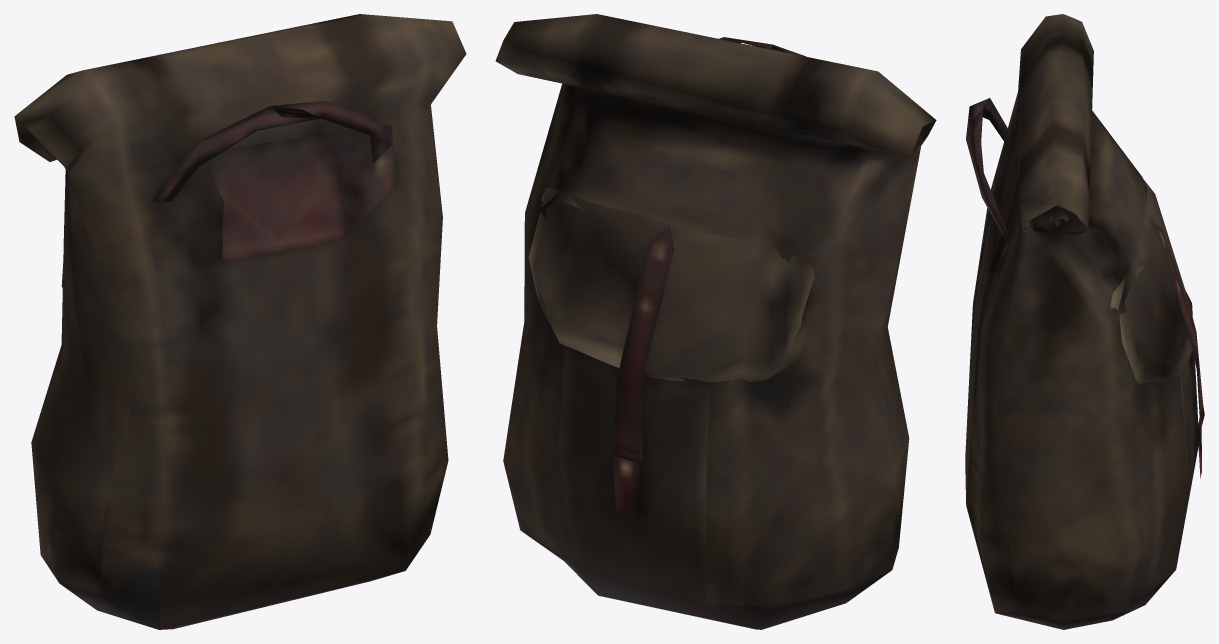
Rendered from backpack.fbx.
The picture shows the model from 3 angles, left to right: view 1: azimuth 30°, elevation 25°; view 2: azimuth 150°, elevation 25°; view 3: azimuth 270°, elevation 25°; orthographic projection. The views are drawn at different scales.
Visible parts, largest first — view 1: back_leather; view 2: back_leather; view 3: back_leather.
Part boxes in pixels (box(x1,y1,x2,y2)): back_leather: box(14, 14, 466, 629); back_leather: box(495, 14, 936, 629); back_leather: box(965, 14, 1204, 629).
Bounding box in the file's own units: 99.89 × 124 × 54.63.
